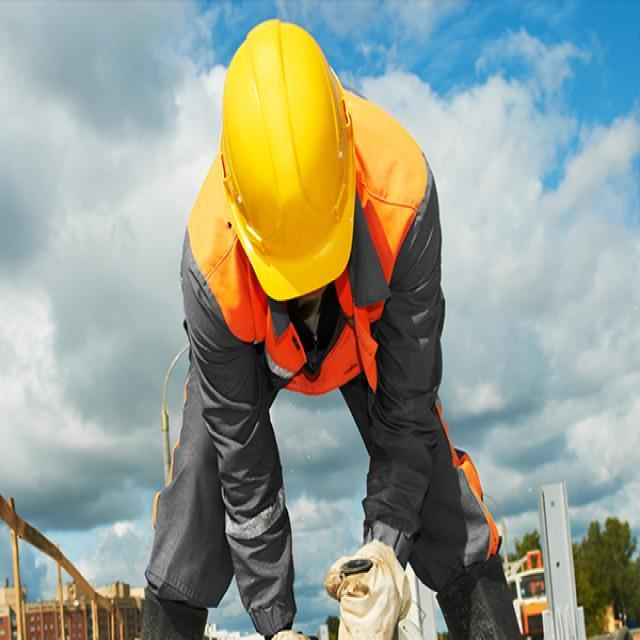helmet: (208, 43, 348, 273)
